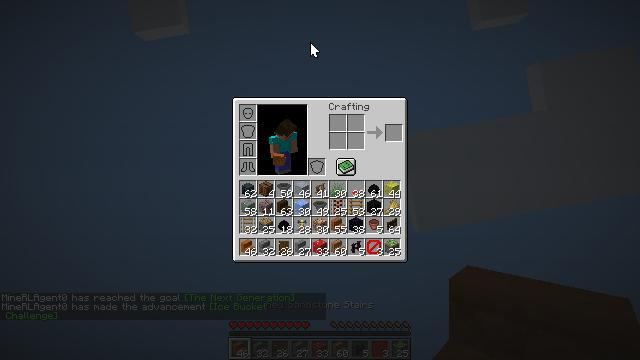cursor: (310, 42, 320, 58)
